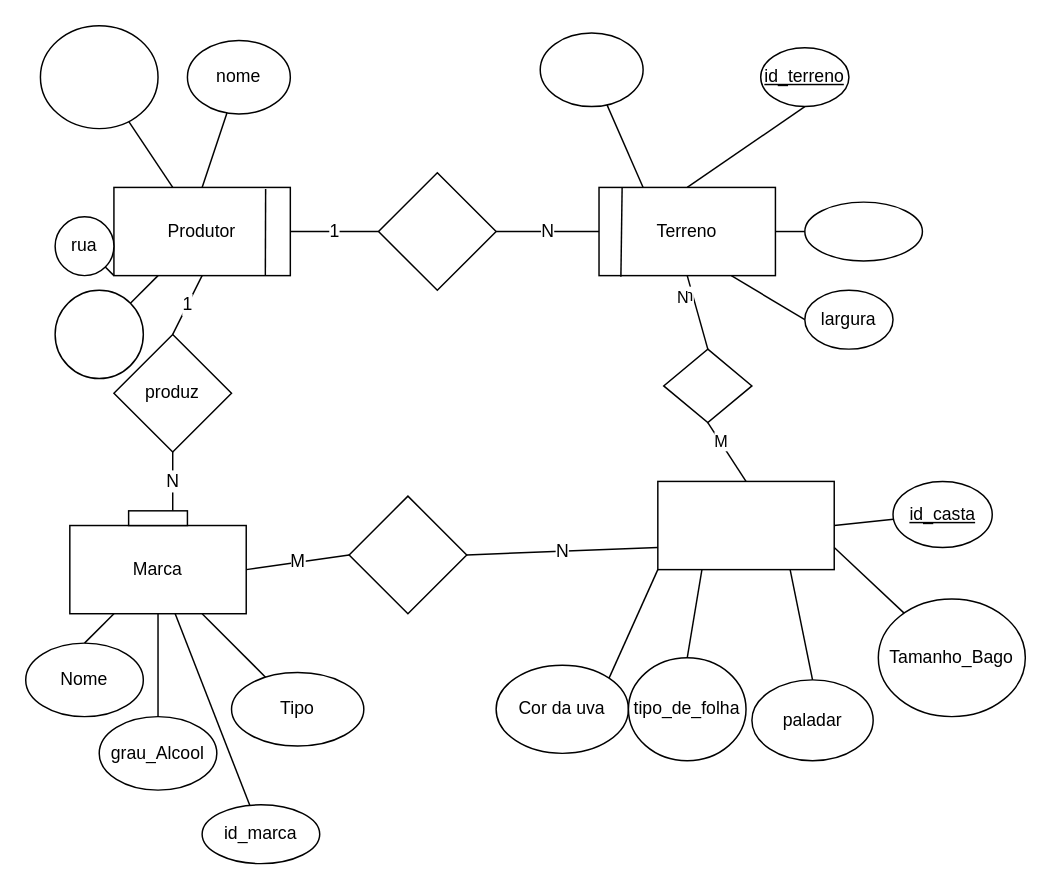
Image size: 1051x889. Some labels were removed from this diagram. The shapes that lost their labels are listed below. From the top down, each one's centre as x and y in pixels, then its label:
(98,76): id_produtor
(591,69): tipo_solo
(436,230): Explora
(862,231): comprimento
(98,334): numero
(707,385): existem
(745,525): CASTA
(407,554): Composta por
